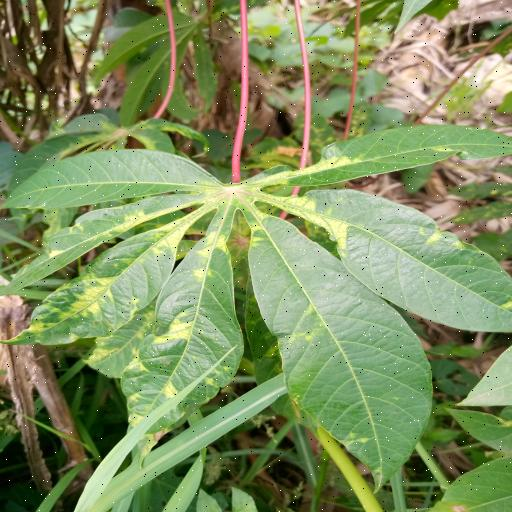Cassava_Mosaic: (5, 122, 512, 492)
